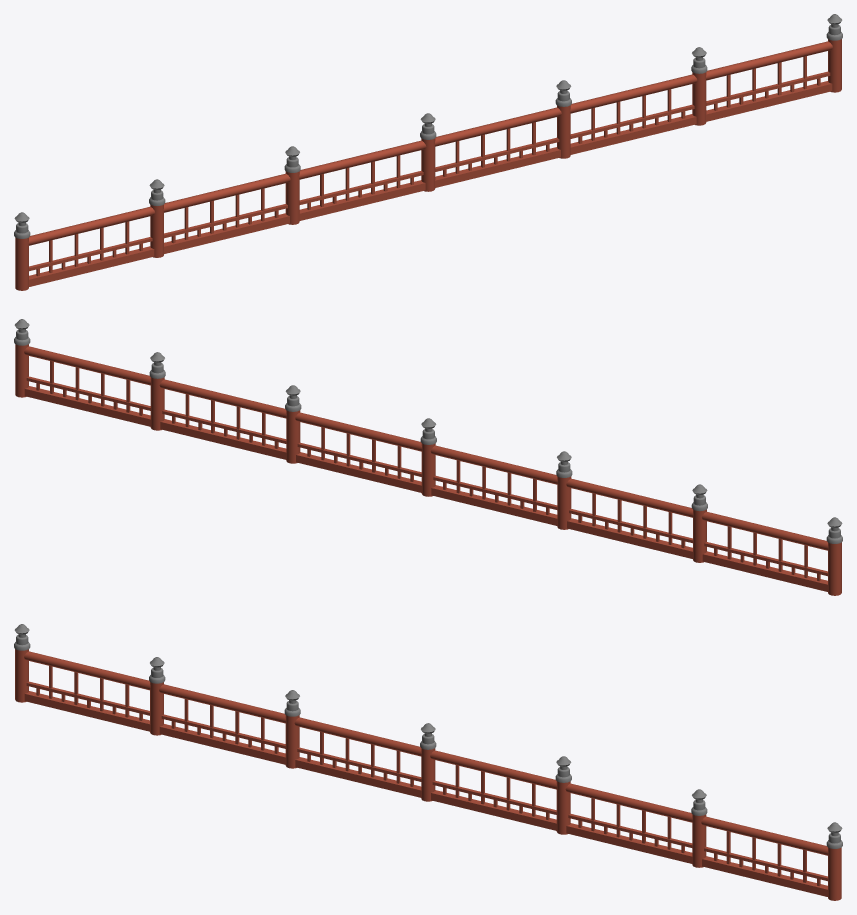
Rendered from SM_fence_temple_preset.fbx.
3 renders of one model, top to bottom at view 1: azimuth 30°, elevation 25°; view 2: azimuth 150°, elevation 25°; view 3: azimuth 330°, elevation 25°, orthographic.
Visible parts, largest first — view 1: Box458; view 2: Box458; view 3: Box458.
Part boxes in pixels (x1,y1,x2,y2): Box458: [14, 14, 842, 290]; Box458: [14, 319, 842, 595]; Box458: [14, 624, 842, 900].
Bounding box in the file's own units: 703 × 60.7 × 11.96.
